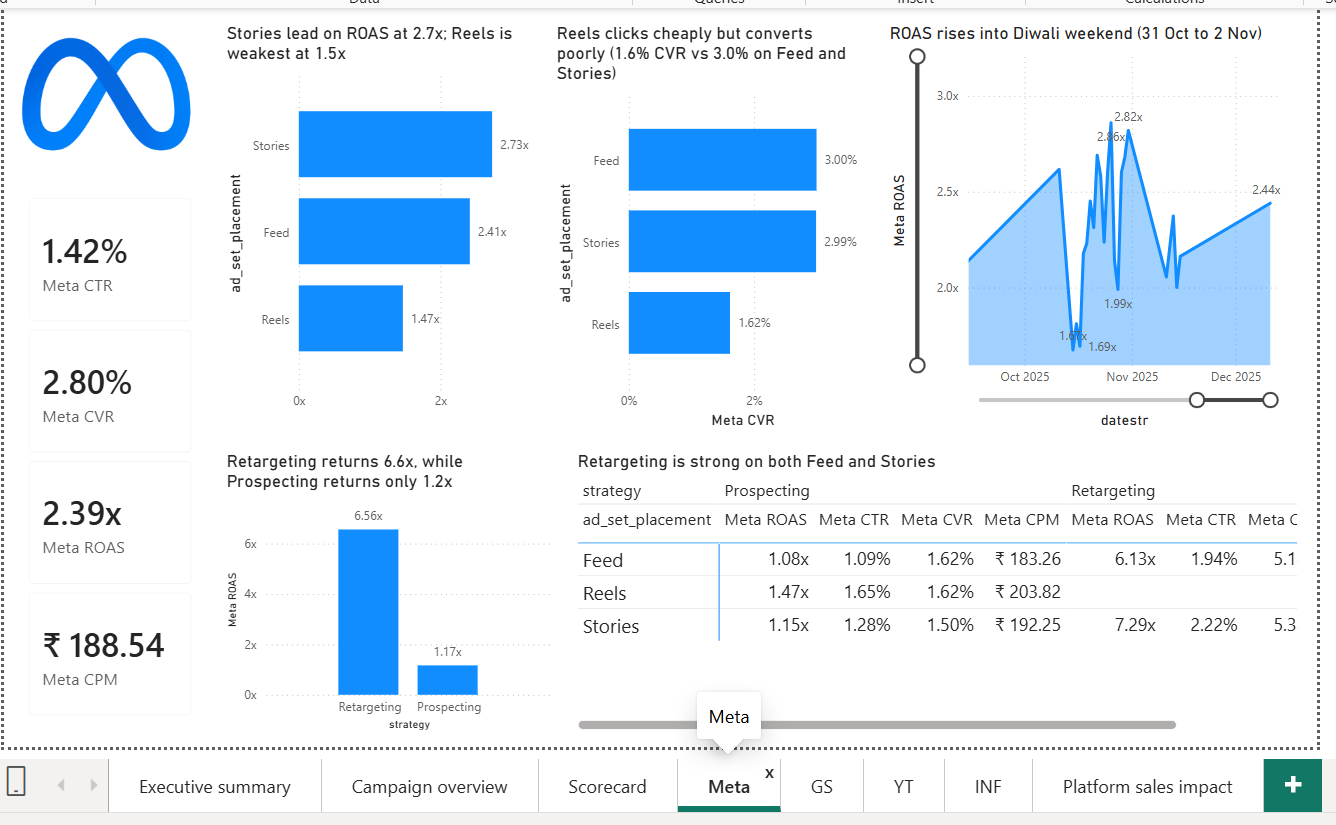

What the dashboard file says about the page in this screenshot:
{"tool":"powerbi","page":{"name":"Meta","canvas":[1280,720],"ordinal":3},"visuals":[{"type":"cardVisual","fields":{"Data":["KPI_Measures.Meta CTR","KPI_Measures.Meta CVR","KPI_Measures.Meta ROAS","KPI_Measures.Meta CPM"]},"box":[6.7,167.7,192.8,540],"z":0},{"type":"clusteredBarChart","title":"Stories lead on ROAS at 2.7x; Reels is weakest at 1.5x","fields":{"Category":["Meta.ad_set_placement"],"Y":["KPI_Measures.Meta ROAS"]},"box":[211.3,15.1,310.2,399.1],"z":1000},{"type":"clusteredColumnChart","title":"Retargeting returns 6.6x, while Prospecting returns only 1.2x","fields":{"Category":["Meta.strategy"],"Y":["KPI_Measures.Meta ROAS"]},"box":[211.3,431,327,276.7],"z":2000},{"type":"clusteredBarChart","title":" Reels clicks cheaply but converts poorly (1.6% CVR vs 3.0% on Feed and Stories)","fields":{"Category":["Meta.ad_set_placement"],"Y":["KPI_Measures.Meta CVR"]},"box":[533.2,15.1,311.9,399.1],"z":3000},{"type":"lineChart","title":"ROAS rises into Diwali weekend (31 Oct to 2 Nov)","fields":{"Category":["Meta.datestr"],"Y":["KPI_Measures.Meta ROAS"]},"box":[858.6,15.1,405.8,399.1],"z":4000},{"type":"pivotTable","title":"Retargeting is strong on both Feed and Stories","fields":{"Columns":["Meta.strategy"],"Rows":["Meta.ad_set_placement"],"Values":["KPI_Measures.Meta ROAS","KPI_Measures.Meta CTR","KPI_Measures.Meta CVR","KPI_Measures.Meta CPM"]},"box":[553.4,431,711,276.7],"z":5000},{"type":"image","box":[0,0,199.5,167.7],"z":6000}]}

Visuals, with their boxes on the page's 1280x720 design canvas (x1, y1, x2, y2). These are canvas units, not pixel positions in the 1336x825 screenshot, which may show the page scaled, cropped or inside an application window:
cardVisual - KPI_Measures.Meta CTR x KPI_Measures.Meta CVR: [left=7, top=168, right=200, bottom=708]
"Stories lead on ROAS at 2.7x; Reels is weakest at 1.5x" clusteredBarChart: [left=211, top=15, right=522, bottom=414]
"Retargeting returns 6.6x, while Prospecting returns only 1.2x" clusteredColumnChart: [left=211, top=431, right=538, bottom=708]
" Reels clicks cheaply but converts poorly (1.6% CVR vs 3.0% on Feed and Stories)" clusteredBarChart: [left=533, top=15, right=845, bottom=414]
"ROAS rises into Diwali weekend (31 Oct to 2 Nov)" lineChart: [left=859, top=15, right=1264, bottom=414]
"Retargeting is strong on both Feed and Stories" pivotTable: [left=553, top=431, right=1264, bottom=708]
image: [left=0, top=0, right=200, bottom=168]
